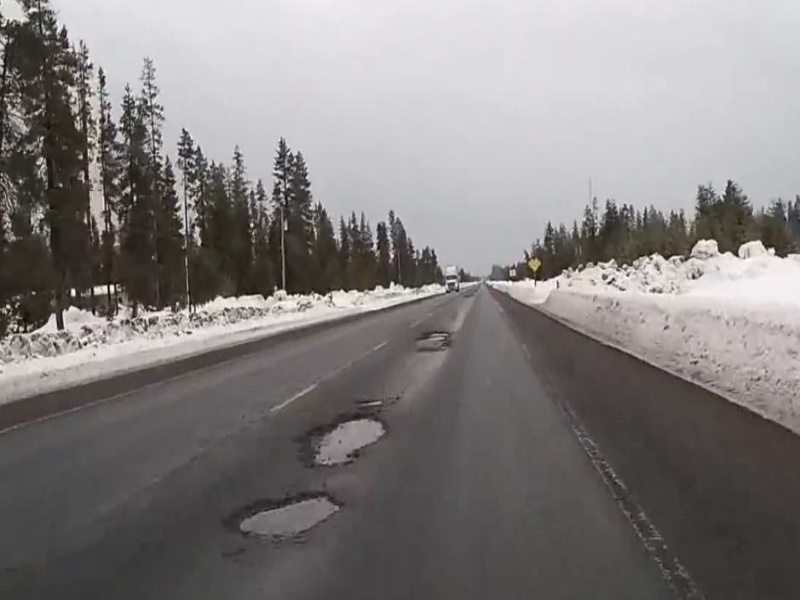pothole: (236, 487, 347, 544), (302, 412, 391, 470)
